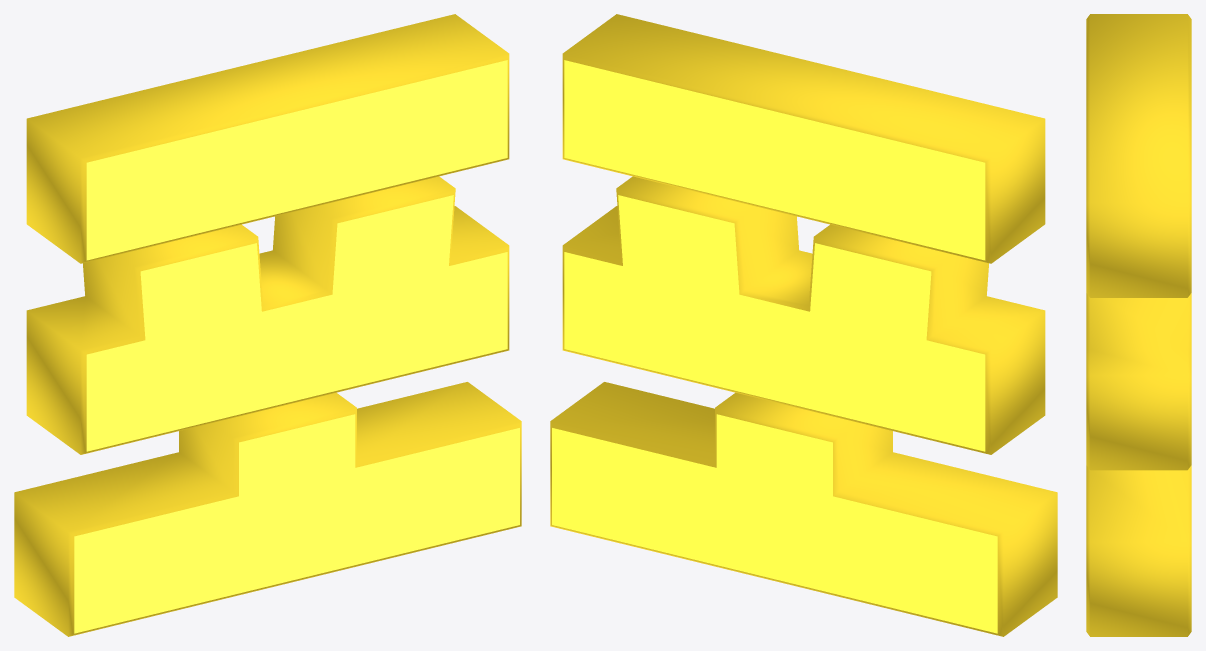
3 renders of one model, left to right at view 1: azimuth 30°, elevation 25°; view 2: azimuth 150°, elevation 25°; view 3: azimuth 270°, elevation 25°, orthographic. The views are drawn at different scales.
Visible parts, largest first — view 1: glyph; view 2: glyph; view 3: glyph.
Boxes of the visible parts, box(x1,y1,x2,y2) form: glyph: box(14, 14, 521, 636); glyph: box(550, 14, 1057, 636); glyph: box(1086, 14, 1191, 636).
Bounding box in the file's own units: 0.0726 × 0.0728 × 0.0162.
